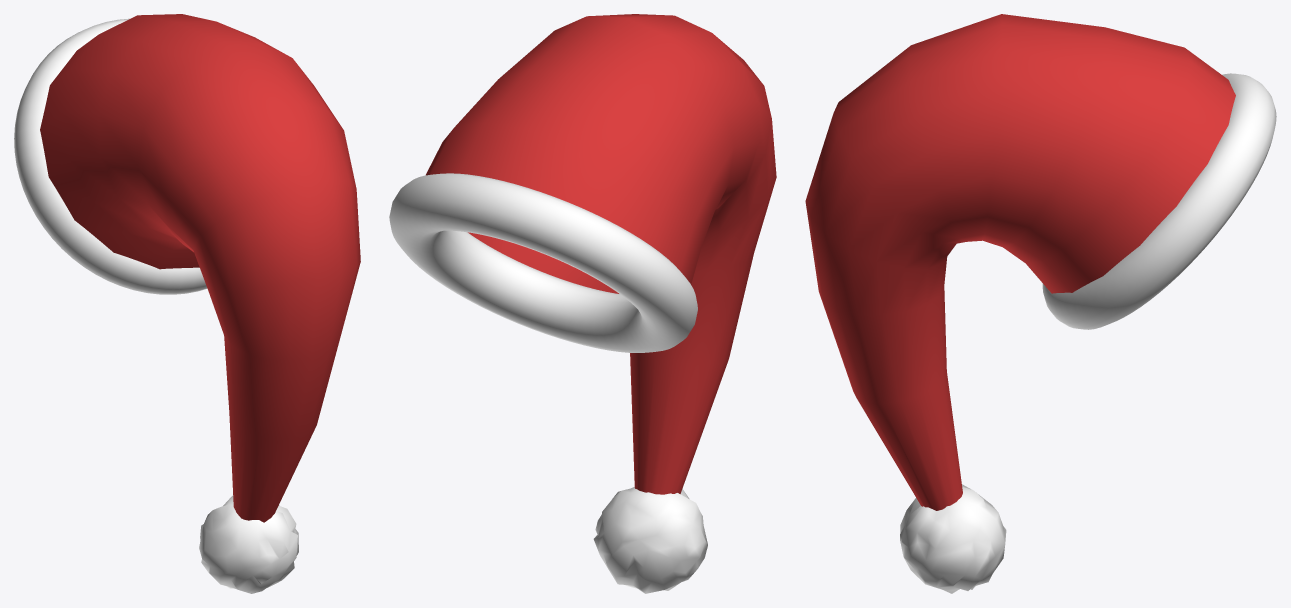
File: doremy_hat.glb
The picture shows the model from 3 angles, left to right: view 1: azimuth 30°, elevation 25°; view 2: azimuth 150°, elevation 25°; view 3: azimuth 270°, elevation 25°; orthographic projection. The views are drawn at different scales.
Parts seen in each view (by area): view 1: doremy_hat; view 2: doremy_hat; view 3: doremy_hat.
Part boxes in pixels (box(x1,y1,x2,y2)): doremy_hat: box(14, 14, 360, 593); doremy_hat: box(389, 14, 776, 593); doremy_hat: box(805, 14, 1276, 593).
Bounding box in the file's own units: 1.87 × 3.73 × 2.83.
